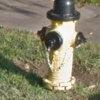Hydrant: (33, 3, 90, 91)
